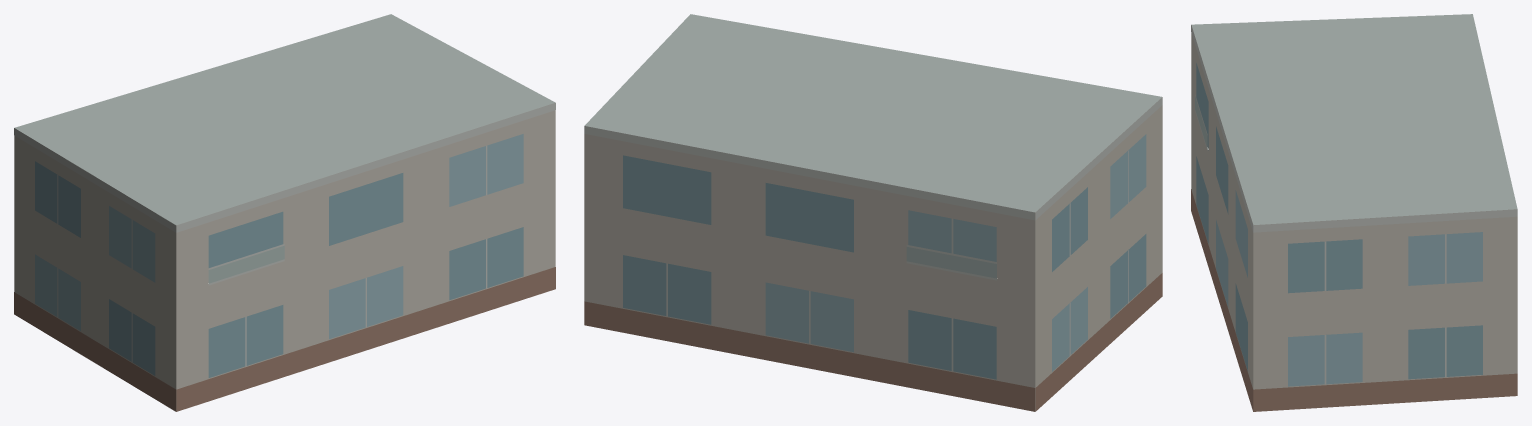
Rendered from survey-upis-32945576.glb.
The picture shows the model from 3 angles, left to right: view 1: azimuth 30°, elevation 25°; view 2: azimuth 150°, elevation 25°; view 3: azimuth 270°, elevation 25°; orthographic projection. The views are drawn at different scales.
Visible parts, largest first — view 1: survey-upis-32945576.tmp; view 2: survey-upis-32945576.tmp; view 3: survey-upis-32945576.tmp.
Boxes of the visible parts, x1=… form: survey-upis-32945576.tmp: x1=14, y1=14, x2=555, y2=411; survey-upis-32945576.tmp: x1=584, y1=14, x2=1162, y2=411; survey-upis-32945576.tmp: x1=1191, y1=14, x2=1517, y2=411.
Size of the model in its own units: 14.8 by 6.1 by 9.67.
